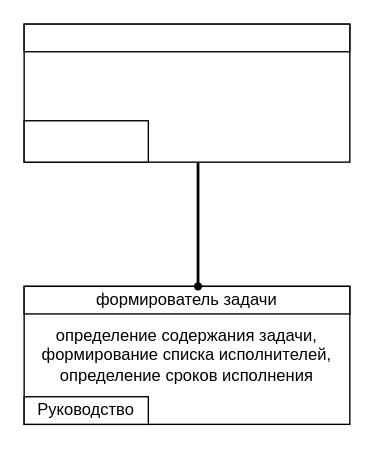
Image size: 374x449. Some labels were removed from this diagram. The shapes that lost their labels are listed below. From the top down, each one's centre as x and y in pixels, then its label:
the point at 186,37: назначения задачи
the point at 85,140: Трекер задач
